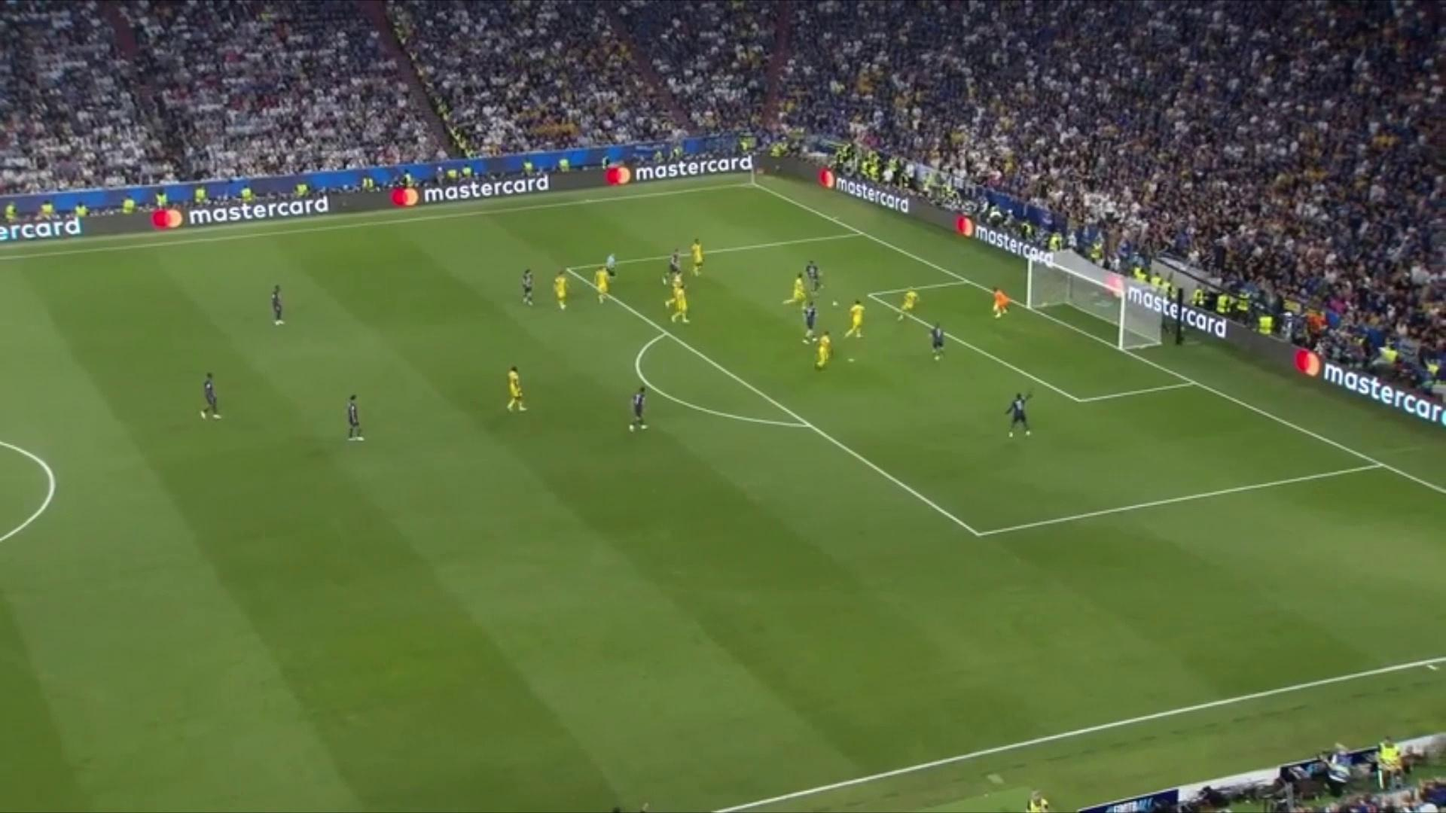ball: (831, 297, 840, 309)
player_A: (1004, 391, 1034, 439), (200, 371, 223, 421), (628, 385, 650, 433), (346, 394, 365, 442), (801, 303, 819, 346), (803, 260, 824, 296), (929, 324, 948, 362), (520, 267, 538, 307), (667, 248, 685, 288), (270, 284, 286, 326)
player_B: (505, 365, 529, 413), (782, 272, 811, 307), (896, 284, 922, 322), (844, 299, 867, 340), (592, 262, 613, 305), (670, 282, 691, 325), (813, 330, 834, 371), (552, 268, 572, 311), (662, 270, 684, 309), (688, 238, 707, 278)
player_B_goal_keeper: (984, 285, 1012, 321)
referee: (606, 252, 621, 282)
